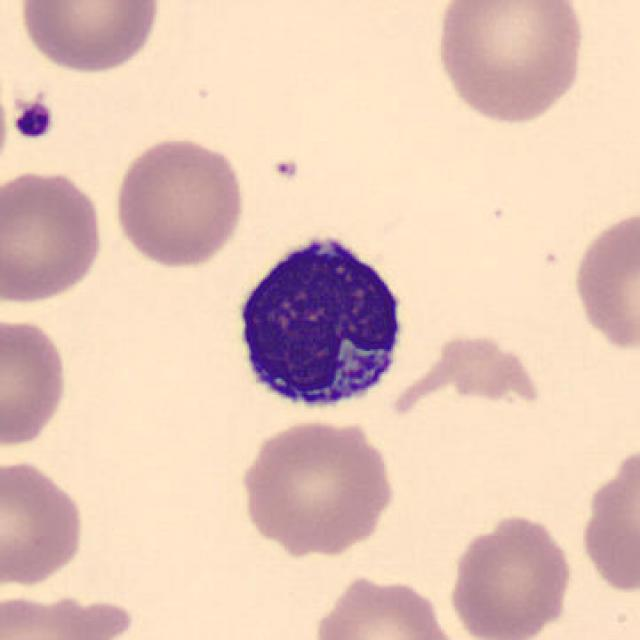Lymphocyte: (222, 221, 416, 424)
Platelets: (9, 97, 57, 143)
RBC: (235, 414, 400, 556), (428, 0, 588, 129), (110, 132, 249, 270), (444, 509, 577, 640), (0, 164, 107, 307), (0, 455, 89, 589), (15, 0, 166, 76), (567, 203, 640, 358), (310, 571, 468, 640), (0, 312, 73, 451), (574, 439, 638, 596), (0, 590, 135, 640)
